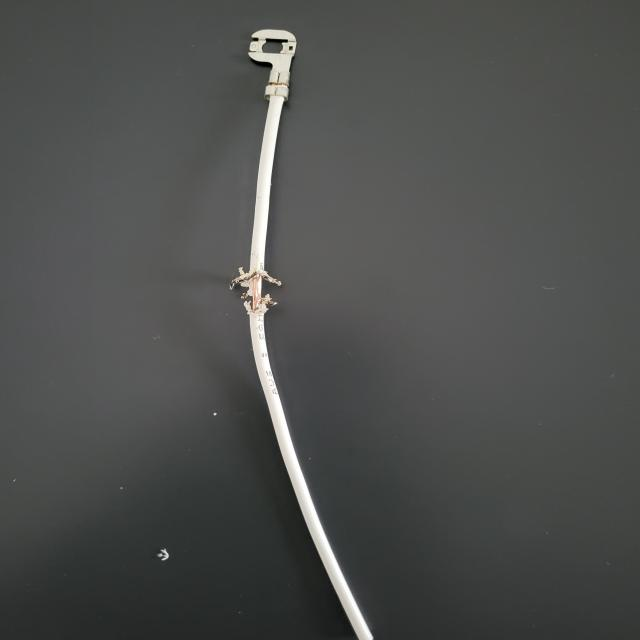defect: (164, 229, 402, 370)
